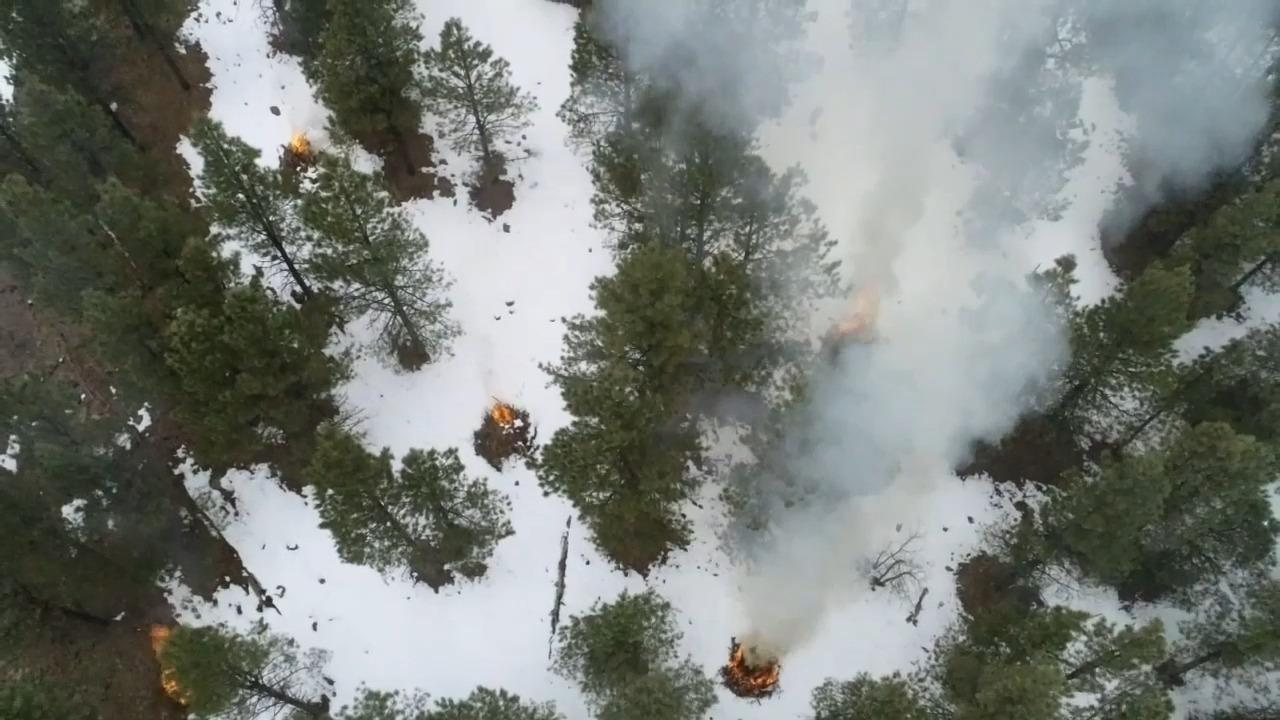fire: (718, 617, 797, 700), (480, 376, 517, 426)
smoke: (818, 0, 1276, 333), (772, 316, 1047, 527), (622, 0, 818, 170)
